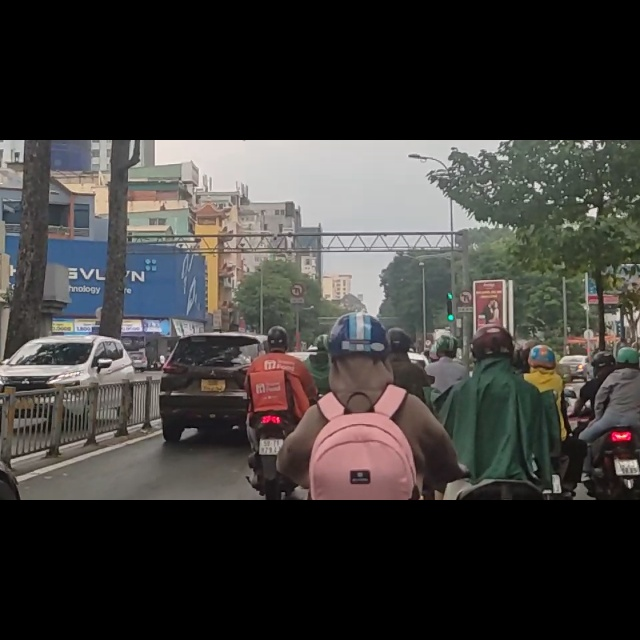bien_cam: (458, 267, 473, 294), (289, 252, 305, 276)
